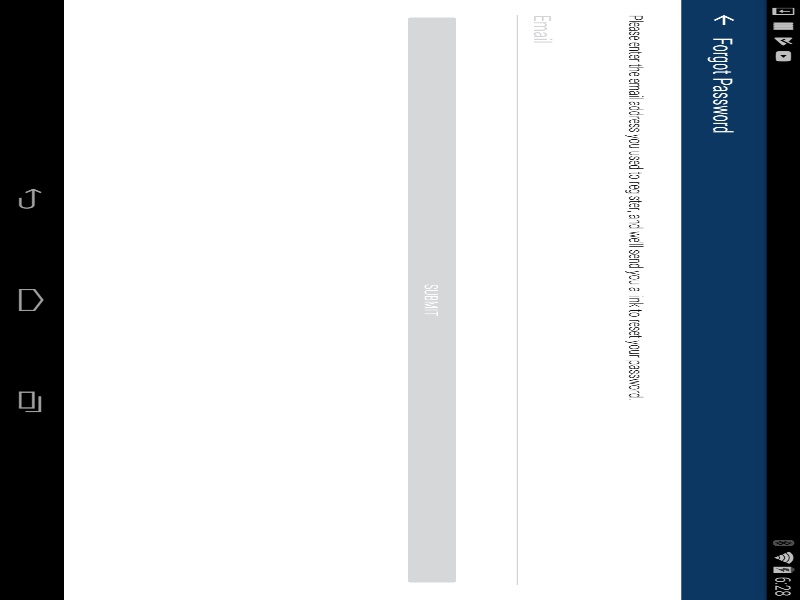Button: (0, 18, 74, 53)
